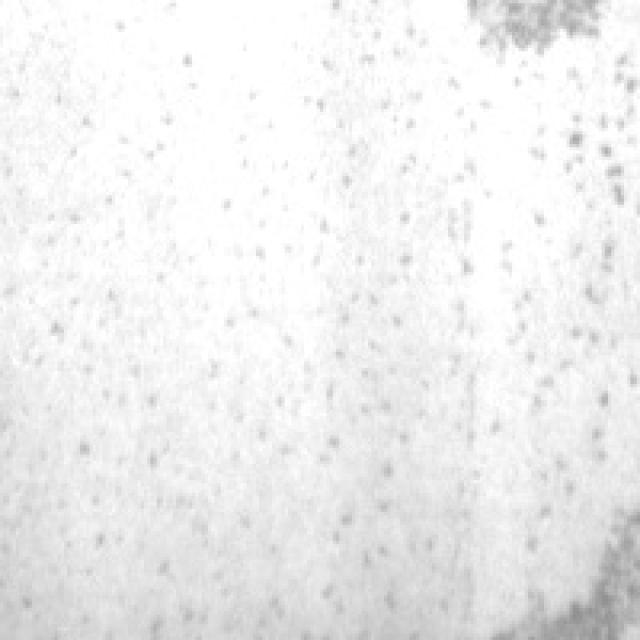pitted_surface: (13, 32, 227, 611), (278, 0, 467, 630), (512, 51, 634, 486), (496, 502, 637, 634), (458, 0, 604, 61)
